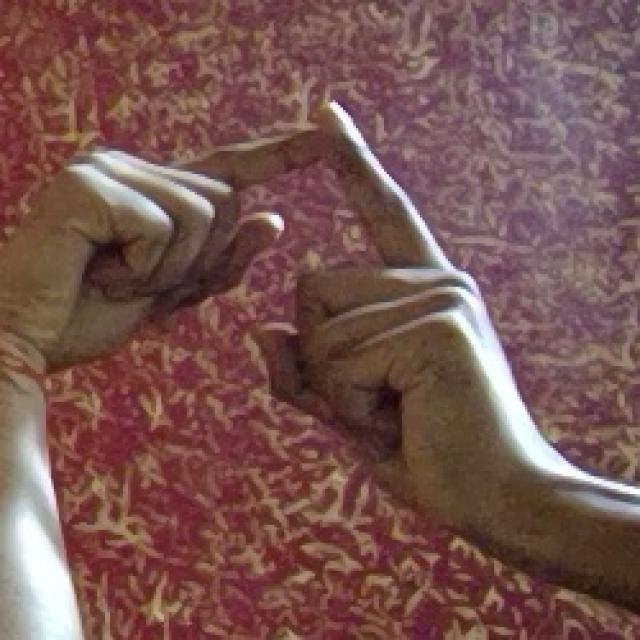Alphabet-E: (59, 92, 495, 552)
